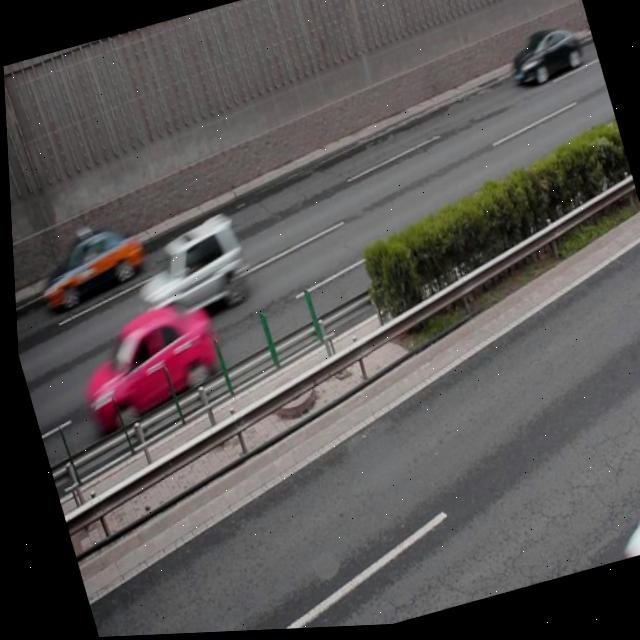car: (61, 298, 226, 434), (121, 208, 252, 331), (25, 218, 150, 314), (498, 22, 587, 96), (597, 444, 640, 564)
